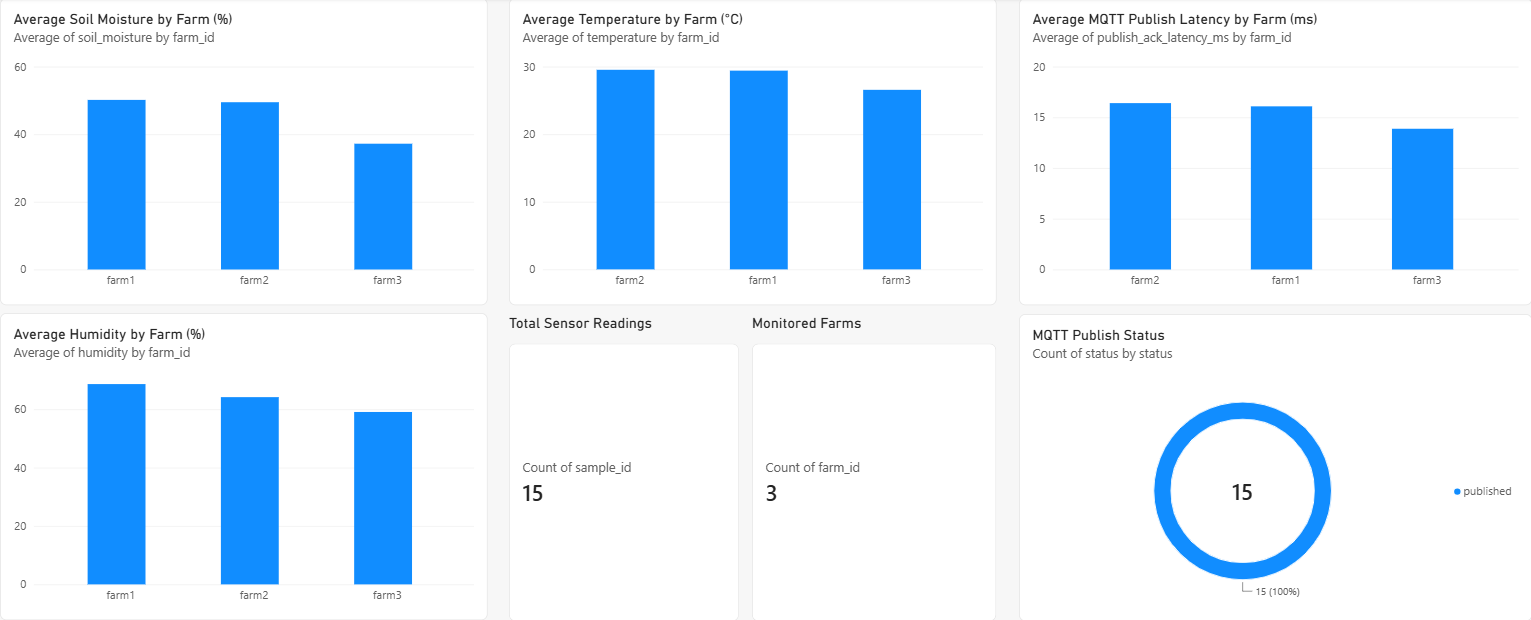

What the dashboard file says about the page in this screenshot:
{"tool":"powerbi","page":{"name":"Page 1","canvas":[1920,1080],"ordinal":0},"visuals":[{"type":"clusteredColumnChart","title":"Average Soil Moisture by Farm (%)","fields":{"Category":["sensor_readings.farm_id"],"Y":["Avg(sensor_readings.soil_moisture)"]},"box":[0,0,611.3,385.2],"z":0},{"type":"clusteredColumnChart","title":"Average Temperature by Farm (°C)","fields":{"Category":["sensor_readings.farm_id"],"Y":["Avg(sensor_readings.temperature)"]},"box":[637.6,0,611,385],"z":1},{"type":"clusteredColumnChart","title":"Average Humidity by Farm (%)","fields":{"Category":["sensor_readings.farm_id"],"Y":["Avg(sensor_readings.humidity)"]},"box":[0,395,611,385],"z":2},{"type":"cardVisual","title":"Total Sensor Readings","fields":{"Data":["CountNonNull(sensor_readings.sample_id)"]},"box":[637.6,395.4,288.9,385.2],"z":3},{"type":"cardVisual","title":"Monitored Farms","fields":{"Data":["Count(sensor_readings.farm_id)"]},"box":[942.5,395.4,306.4,385.2],"z":4},{"type":"clusteredColumnChart","title":"Average MQTT Publish Latency by Farm (ms)","fields":{"Category":["monitoring_logs.farm_id"],"Y":["Avg(monitoring_logs.publish_ack_latency_ms)"]},"box":[1276.6,0,643.4,385.2],"z":5},{"type":"donutChart","title":"MQTT Publish Status","fields":{"Category":["monitoring_logs.status"],"Y":["CountNonNull(monitoring_logs.status)"]},"box":[1276.6,395.4,643.4,385.2],"z":6}]}

Visuals, with their boxes on the page's 1920x1080 design canvas (x1, y1, x2, y2). These are canvas units, not pixel positions in the 1531x620 screenshot, which may show the page scaled, cropped or inside an application window:
"Average Soil Moisture by Farm (%)" clusteredColumnChart: [0,0,611,385]
"Average Temperature by Farm (°C)" clusteredColumnChart: [638,0,1249,385]
"Average Humidity by Farm (%)" clusteredColumnChart: [0,395,611,780]
"Total Sensor Readings" cardVisual: [638,395,926,781]
"Monitored Farms" cardVisual: [942,395,1249,781]
"Average MQTT Publish Latency by Farm (ms)" clusteredColumnChart: [1277,0,1920,385]
"MQTT Publish Status" donutChart: [1277,395,1920,781]
